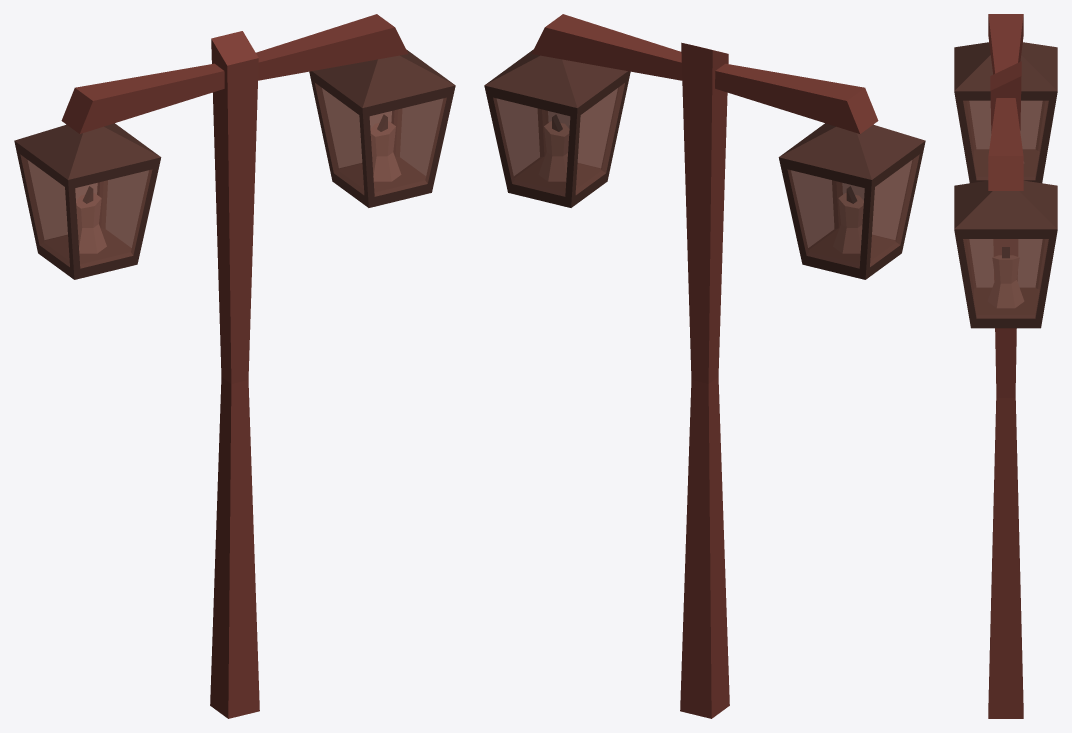
The model's file is Lamp_4_Red.fbx.
3 renders of one model, left to right at view 1: azimuth 30°, elevation 25°; view 2: azimuth 150°, elevation 25°; view 3: azimuth 270°, elevation 25°, orthographic. The views are drawn at different scales.
Visible parts, largest first — view 1: Lamp_4_Red_Part_1, Lamp_4_Red_Part_2, Lamp_4_Red_Part_3, Lamp_4_Red_Part_4; view 2: Lamp_4_Red_Part_1, Lamp_4_Red_Part_2, Lamp_4_Red_Part_3, Lamp_4_Red_Part_4; view 3: Lamp_4_Red_Part_1, Lamp_4_Red_Part_2, Lamp_4_Red_Part_3, Lamp_4_Red_Part_4.
Part boxes in pixels (x1,y1,x2,y2): Lamp_4_Red_Part_1: [61, 14, 408, 718]; Lamp_4_Red_Part_2: [14, 49, 455, 279]; Lamp_4_Red_Part_3: [20, 83, 446, 268]; Lamp_4_Red_Part_4: [76, 121, 400, 253]; Lamp_4_Red_Part_1: [531, 14, 878, 718]; Lamp_4_Red_Part_2: [484, 49, 925, 279]; Lamp_4_Red_Part_3: [493, 83, 919, 268]; Lamp_4_Red_Part_4: [539, 121, 863, 253]; Lamp_4_Red_Part_1: [988, 14, 1023, 718]; Lamp_4_Red_Part_2: [954, 42, 1057, 328]; Lamp_4_Red_Part_3: [963, 100, 1048, 318]; Lamp_4_Red_Part_4: [988, 255, 1023, 307].
Size of the model in its own units: 184 by 304 by 44.34.
